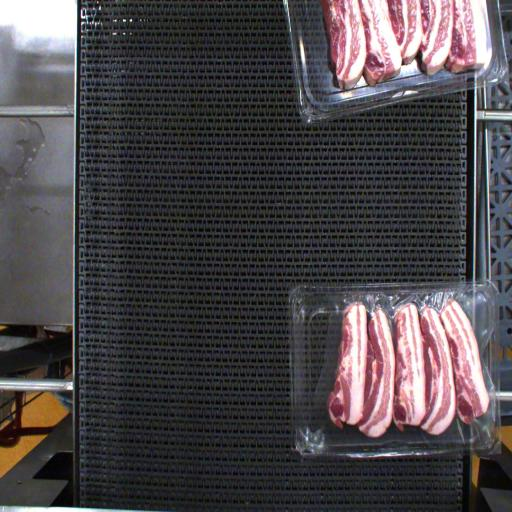unsealed: (290, 286, 494, 450)
